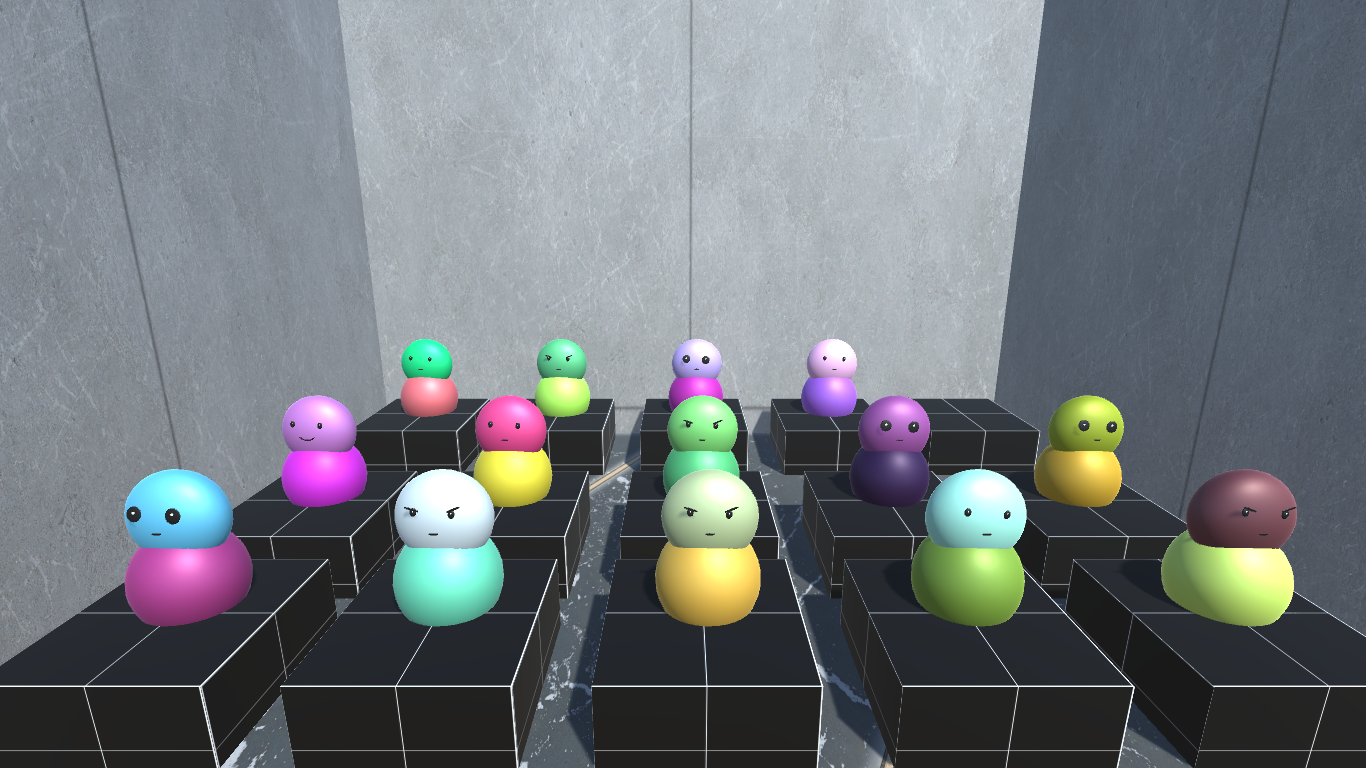blob_atento: (112, 462, 233, 552), (1042, 391, 1132, 453), (853, 393, 929, 448), (665, 334, 724, 384)
blob_feliz: (277, 391, 357, 455)
blob_normal: (917, 462, 1032, 552), (467, 393, 545, 459), (803, 335, 867, 381), (396, 335, 454, 383)
blob_raiva: (1175, 465, 1307, 552), (379, 473, 501, 558), (653, 466, 769, 550), (662, 392, 743, 450), (533, 333, 587, 381)
